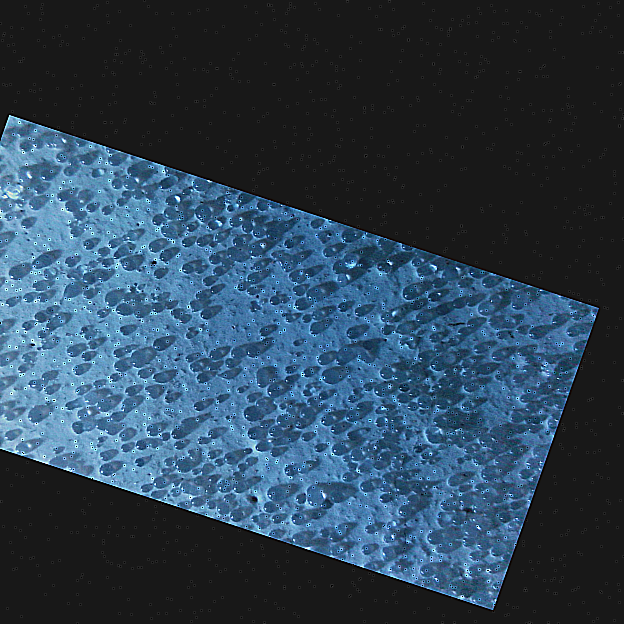GrassBeadSeg: (383, 274, 400, 304), (196, 358, 212, 389), (208, 51, 225, 80), (501, 322, 518, 351), (321, 393, 338, 421), (182, 107, 198, 133), (197, 0, 212, 27), (341, 135, 357, 160), (417, 407, 433, 432), (371, 528, 386, 554), (410, 513, 425, 539), (567, 363, 582, 388), (508, 58, 523, 83), (271, 88, 285, 114), (432, 77, 447, 101), (155, 193, 170, 217), (489, 440, 504, 464), (183, 385, 197, 410), (336, 338, 350, 363), (24, 589, 38, 614), (482, 191, 497, 214), (152, 268, 165, 294), (435, 408, 449, 432), (453, 113, 467, 137), (165, 280, 180, 302), (23, 233, 36, 258), (118, 530, 131, 555), (2, 359, 15, 384), (418, 340, 432, 363), (375, 361, 389, 384), (537, 515, 551, 538), (355, 8, 369, 31), (274, 533, 288, 556), (437, 237, 450, 261), (437, 273, 451, 295), (483, 268, 497, 290), (351, 415, 365, 437), (321, 547, 335, 569), (319, 116, 334, 136), (52, 280, 65, 303), (501, 482, 514, 505), (180, 469, 193, 492), (357, 72, 370, 95), (166, 465, 179, 488), (318, 490, 331, 513), (500, 262, 514, 283), (224, 385, 238, 406), (568, 481, 582, 502), (355, 389, 368, 411), (32, 402, 45, 424), (213, 325, 226, 347), (541, 581, 554, 603), (131, 44, 144, 66), (83, 121, 96, 143), (333, 165, 347, 185), (289, 293, 303, 313), (189, 156, 201, 179), (500, 572, 512, 595), (402, 563, 415, 584), (373, 252, 386, 273), (269, 309, 282, 330), (555, 427, 568, 448), (282, 50, 295, 71), (244, 2, 257, 23), (609, 294, 622, 315), (392, 0, 405, 21), (392, 185, 404, 207), (124, 244, 136, 266), (356, 200, 368, 222), (48, 139, 60, 161), (204, 588, 216, 610), (432, 497, 444, 519), (380, 50, 392, 72), (456, 462, 469, 482), (342, 595, 355, 615), (539, 448, 552, 468), (600, 603, 613, 623), (82, 26, 95, 46), (203, 459, 214, 482), (332, 432, 344, 453), (379, 478, 391, 499), (424, 159, 436, 180), (304, 281, 316, 302), (259, 580, 271, 601), (42, 450, 54, 471), (235, 486, 247, 507), (196, 511, 208, 532), (260, 478, 272, 499), (600, 385, 612, 406), (163, 528, 175, 549), (420, 136, 432, 157), (504, 10, 516, 31), (269, 55, 281, 76), (452, 236, 464, 257), (253, 111, 265, 132), (179, 74, 191, 95), (554, 306, 567, 325), (539, 34, 552, 53), (82, 545, 93, 567), (371, 560, 383, 580), (397, 363, 409, 383), (176, 146, 188, 166), (69, 451, 81, 471), (254, 87, 266, 107), (344, 451, 356, 471), (521, 215, 533, 235), (554, 343, 566, 363), (587, 498, 599, 518), (323, 332, 335, 352), (328, 590, 339, 611), (266, 456, 277, 477), (184, 277, 195, 298), (409, 600, 420, 621), (264, 6, 275, 27), (16, 463, 27, 484), (3, 428, 14, 449), (46, 420, 57, 441), (280, 146, 292, 165), (538, 142, 550, 161), (343, 52, 355, 71), (109, 12, 121, 31), (565, 78, 577, 97), (400, 46, 412, 65), (164, 502, 176, 521), (534, 309, 546, 328), (176, 52, 188, 71), (575, 335, 587, 354), (436, 456, 447, 476), (237, 133, 248, 153), (55, 394, 66, 414), (576, 244, 587, 264), (598, 436, 609, 456), (244, 51, 255, 71), (208, 388, 219, 408), (73, 499, 84, 519), (602, 502, 613, 522), (461, 277, 473, 295), (518, 140, 530, 158), (522, 80, 534, 98), (503, 98, 515, 116), (185, 507, 195, 528), (118, 600, 128, 621), (41, 530, 51, 551), (62, 541, 72, 562), (26, 530, 36, 551), (393, 143, 404, 162), (373, 387, 384, 406), (265, 362, 276, 381), (113, 183, 124, 202), (133, 391, 144, 410), (255, 344, 266, 363), (526, 252, 537, 271), (336, 542, 347, 561), (50, 80, 61, 99), (20, 41, 31, 60), (516, 38, 527, 57), (70, 37, 81, 56), (72, 250, 84, 267), (612, 78, 624, 95), (171, 96, 181, 116), (165, 25, 175, 45), (237, 210, 248, 228), (202, 430, 213, 448), (176, 321, 187, 339), (92, 348, 103, 366), (327, 141, 338, 159), (215, 168, 226, 186), (457, 44, 468, 62), (72, 110, 83, 128), (505, 459, 516, 477), (528, 177, 539, 195), (583, 40, 594, 58), (69, 60, 80, 78), (11, 17, 22, 35), (437, 434, 448, 452), (361, 370, 372, 388), (469, 89, 480, 107), (248, 241, 258, 260), (458, 71, 468, 90), (101, 227, 111, 246), (230, 522, 240, 541), (120, 54, 130, 73), (505, 298, 515, 317), (95, 135, 105, 154), (587, 555, 597, 574), (483, 68, 493, 87), (449, 601, 459, 620), (32, 26, 42, 45), (223, 417, 233, 436), (359, 455, 370, 472), (47, 183, 58, 200), (507, 219, 518, 236), (151, 141, 162, 158), (390, 469, 401, 486), (146, 421, 155, 441), (272, 416, 282, 434), (206, 120, 216, 138), (178, 366, 188, 384), (479, 473, 489, 491), (410, 376, 420, 394), (469, 188, 479, 206), (472, 146, 482, 164), (235, 233, 245, 251), (288, 317, 298, 335), (97, 169, 107, 187), (197, 485, 207, 503), (604, 538, 614, 556), (603, 345, 613, 363), (498, 118, 508, 136), (59, 38, 69, 56), (353, 176, 363, 194), (313, 85, 323, 103), (71, 0, 81, 18), (60, 417, 70, 435), (219, 258, 229, 276), (575, 410, 585, 428), (425, 520, 435, 538), (490, 0, 500, 18), (463, 24, 473, 42), (515, 195, 526, 211), (149, 392, 158, 411), (17, 209, 26, 228), (364, 288, 374, 305), (478, 580, 488, 597), (496, 546, 506, 563), (309, 240, 319, 257), (129, 189, 139, 206), (449, 337, 459, 354), (220, 110, 230, 127), (95, 549, 105, 566), (587, 219, 597, 236), (211, 516, 221, 533), (448, 432, 458, 449), (302, 595, 312, 612), (600, 21, 610, 38), (613, 193, 623, 210), (613, 234, 623, 251), (593, 1, 603, 18), (430, 19, 440, 36), (143, 62, 153, 79), (130, 21, 140, 38), (5, 194, 15, 211), (0, 216, 10, 233), (285, 575, 295, 592), (475, 454, 485, 471), (464, 396, 474, 413), (426, 377, 436, 394), (450, 390, 460, 407), (391, 246, 401, 263), (93, 104, 103, 121), (434, 575, 443, 593), (295, 459, 304, 477), (103, 585, 112, 603), (200, 259, 209, 277), (37, 317, 46, 335), (399, 526, 408, 544), (229, 263, 238, 281), (258, 55, 267, 73), (24, 368, 33, 386), (52, 512, 61, 530), (333, 101, 342, 119), (310, 106, 319, 124), (383, 578, 393, 594), (239, 180, 249, 196), (199, 566, 209, 582), (386, 322, 396, 338), (316, 592, 326, 608), (460, 356, 470, 372), (241, 514, 251, 530), (48, 112, 58, 128), (480, 164, 490, 180), (555, 471, 565, 487), (572, 505, 582, 521), (607, 320, 617, 336), (557, 588, 567, 604), (534, 102, 544, 118), (466, 237, 476, 253), (491, 241, 501, 257), (497, 203, 507, 219), (571, 150, 581, 166), (205, 90, 215, 106), (78, 293, 88, 309), (462, 418, 472, 434), (531, 2, 541, 18), (245, 155, 254, 172), (130, 276, 139, 293), (376, 145, 385, 162), (190, 196, 199, 213), (235, 556, 244, 573), (267, 501, 276, 518), (74, 320, 83, 337), (82, 372, 91, 389), (87, 311, 96, 328), (319, 370, 328, 387), (583, 527, 592, 544), (10, 397, 19, 414), (249, 600, 258, 617), (262, 538, 271, 555), (566, 173, 575, 190), (495, 224, 504, 241), (538, 402, 547, 419), (543, 334, 552, 351), (76, 587, 85, 604), (601, 53, 610, 70), (490, 144, 499, 161), (236, 92, 245, 109), (225, 73, 234, 90), (194, 76, 203, 93), (0, 238, 9, 255), (6, 305, 15, 322), (329, 373, 338, 390), (479, 403, 488, 420), (580, 468, 589, 485), (475, 541, 485, 556), (578, 206, 588, 221), (512, 601, 522, 616), (20, 168, 30, 183), (495, 62, 505, 77), (426, 279, 435, 295), (154, 460, 163, 476), (328, 200, 337, 216), (59, 339, 68, 355), (103, 116, 112, 132), (311, 564, 320, 580), (561, 120, 570, 136), (472, 264, 481, 280), (465, 218, 474, 234), (481, 31, 490, 47), (29, 262, 38, 278), (138, 235, 147, 251), (167, 260, 176, 276), (475, 434, 484, 450), (494, 362, 503, 378), (609, 448, 618, 464), (445, 579, 454, 595), (334, 504, 342, 521), (251, 493, 259, 510), (15, 606, 23, 623), (582, 440, 590, 457), (400, 422, 409, 437), (349, 314, 358, 329), (309, 176, 318, 191), (284, 172, 293, 187), (136, 209, 145, 224), (151, 369, 160, 384), (491, 421, 500, 436), (596, 257, 605, 272), (610, 164, 619, 179), (169, 439, 178, 454), (110, 476, 119, 491), (587, 311, 596, 326), (495, 523, 504, 538), (304, 62, 312, 78), (150, 306, 158, 322), (274, 169, 282, 185), (100, 380, 108, 396), (281, 122, 289, 138), (566, 398, 574, 414), (106, 360, 114, 376), (93, 433, 101, 449), (7, 175, 15, 191), (99, 329, 107, 345), (178, 256, 186, 272), (341, 411, 349, 427), (613, 511, 621, 527), (322, 8, 330, 24), (217, 540, 226, 554), (125, 480, 134, 494), (370, 328, 379, 342), (371, 600, 380, 614), (475, 289, 484, 303), (183, 416, 191, 431), (460, 259, 468, 274), (24, 281, 32, 296), (120, 112, 128, 127), (279, 592, 287, 607), (150, 495, 158, 510), (242, 422, 250, 437), (118, 455, 126, 470), (301, 500, 309, 515), (137, 169, 145, 184), (133, 71, 141, 86), (504, 372, 512, 387), (26, 561, 34, 576), (153, 585, 161, 600), (573, 459, 581, 474), (310, 510, 319, 523), (291, 541, 299, 555), (227, 165, 235, 179), (345, 191, 353, 205), (237, 33, 245, 47), (189, 30, 197, 44), (211, 249, 218, 265), (331, 27, 339, 41), (276, 0, 284, 14), (93, 456, 100, 471), (385, 409, 392, 424), (30, 183, 37, 198), (58, 443, 65, 458), (131, 87, 138, 102), (4, 102, 11, 117), (2, 126, 9, 141), (38, 173, 45, 188), (5, 268, 12, 283), (37, 358, 44, 373), (54, 601, 61, 616), (14, 576, 21, 591), (66, 574, 73, 589), (250, 138, 258, 151), (297, 557, 305, 570), (378, 343, 386, 356), (346, 296, 354, 309), (249, 192, 256, 206), (145, 189, 152, 203), (570, 132, 577, 146), (248, 336, 255, 350), (272, 337, 279, 351), (281, 510, 289, 522), (277, 573, 284, 586), (287, 481, 294, 494), (278, 442, 285, 455), (430, 426, 437, 439), (292, 392, 298, 406), (470, 341, 477, 353), (300, 536, 307, 548), (310, 546, 317, 558), (331, 571, 338, 583), (332, 525, 339, 537), (339, 491, 346, 503), (262, 562, 269, 574), (334, 472, 341, 484), (416, 313, 422, 326), (308, 363, 314, 376), (552, 82, 558, 95), (417, 296, 423, 309), (364, 593, 371, 604), (200, 244, 207, 255), (187, 357, 194, 368), (138, 349, 145, 360), (192, 540, 198, 552), (353, 369, 359, 381), (427, 322, 433, 334), (145, 359, 151, 370), (147, 153, 153, 164), (241, 296, 247, 306), (505, 387, 511, 397), (539, 363, 545, 373), (545, 352, 551, 362), (571, 436, 577, 446), (549, 540, 555, 550), (345, 244, 351, 254), (523, 314, 529, 324), (487, 296, 493, 306), (319, 173, 325, 182), (512, 383, 518, 392), (572, 446, 577, 456), (517, 429, 522, 439), (479, 393, 484, 403), (178, 237, 183, 246), (172, 245, 177, 254), (131, 211, 136, 220), (157, 63, 162, 72), (155, 54, 160, 63), (130, 508, 135, 517), (192, 555, 197, 564), (93, 164, 98, 173), (305, 425, 310, 433), (371, 319, 376, 327), (463, 328, 468, 336), (293, 210, 298, 218), (295, 95, 300, 103), (233, 113, 238, 121), (402, 551, 407, 559), (512, 185, 517, 193), (337, 40, 342, 48), (108, 258, 112, 267), (241, 413, 245, 422), (119, 41, 123, 50), (351, 266, 355, 274), (446, 181, 450, 189)
